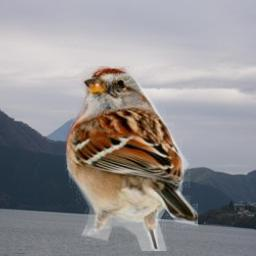Sparrow: (64, 66, 198, 251)
